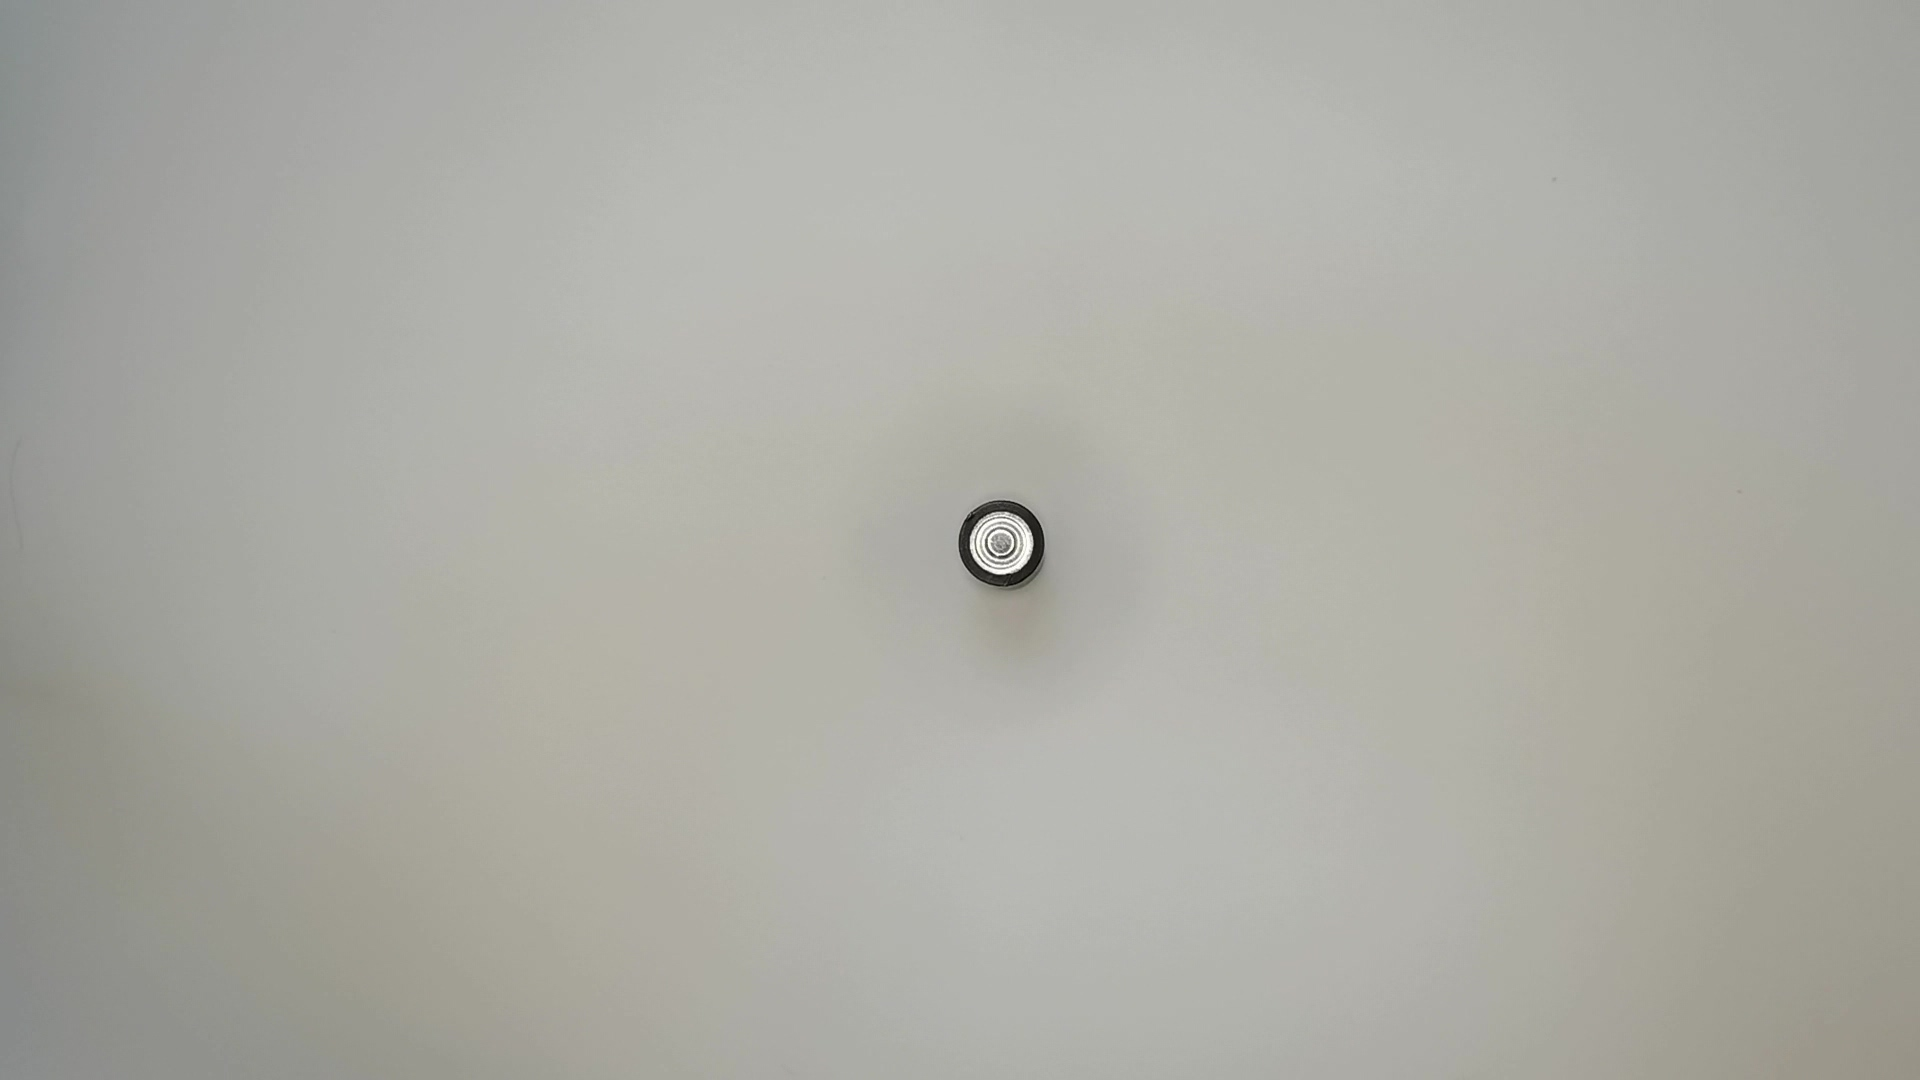battery: (943, 491, 1058, 600)
